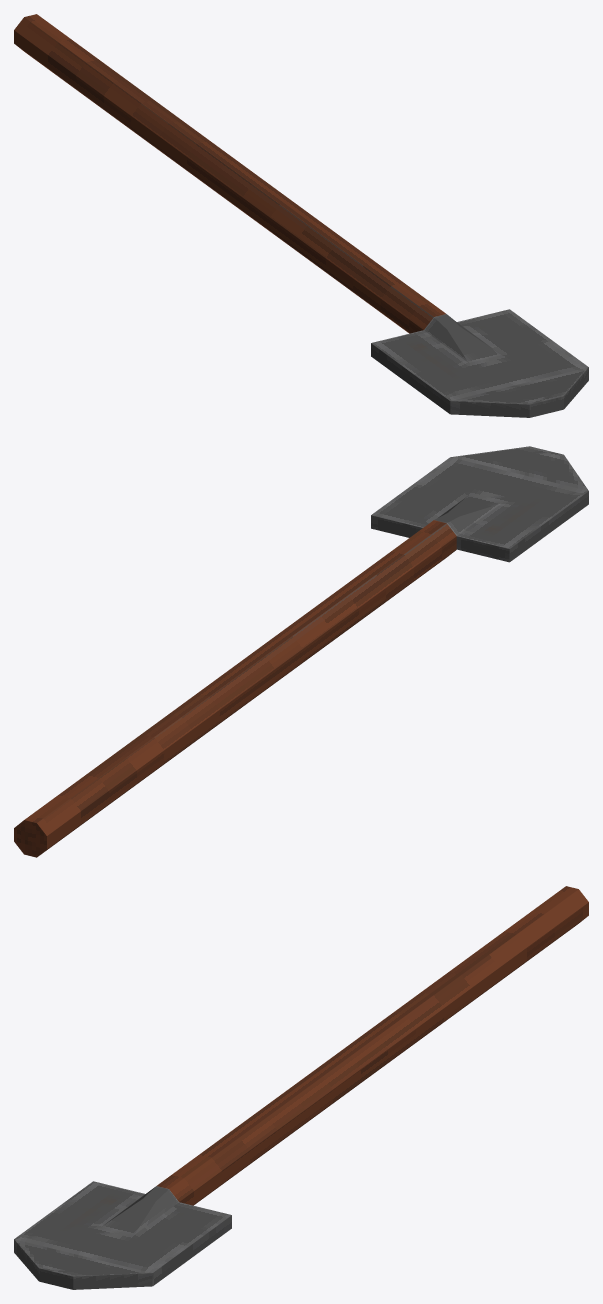
The model's file is shovel.fbx.
3 renders of one model, top to bottom at view 1: azimuth 30°, elevation 25°; view 2: azimuth 150°, elevation 25°; view 3: azimuth 330°, elevation 25°, orthographic.
Parts seen in each view (by area): view 1: shovel; view 2: shovel; view 3: shovel.
Part boxes in pixels (box(x1,y1,x2,y2)): shovel: box(14, 14, 588, 417); shovel: box(14, 446, 588, 857); shovel: box(14, 886, 588, 1289).
Size of the model in its own units: 50.99 by 12.11 by 329.
